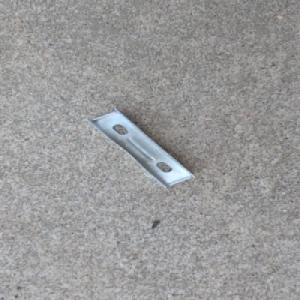ClampPart: (85, 106, 197, 188)
